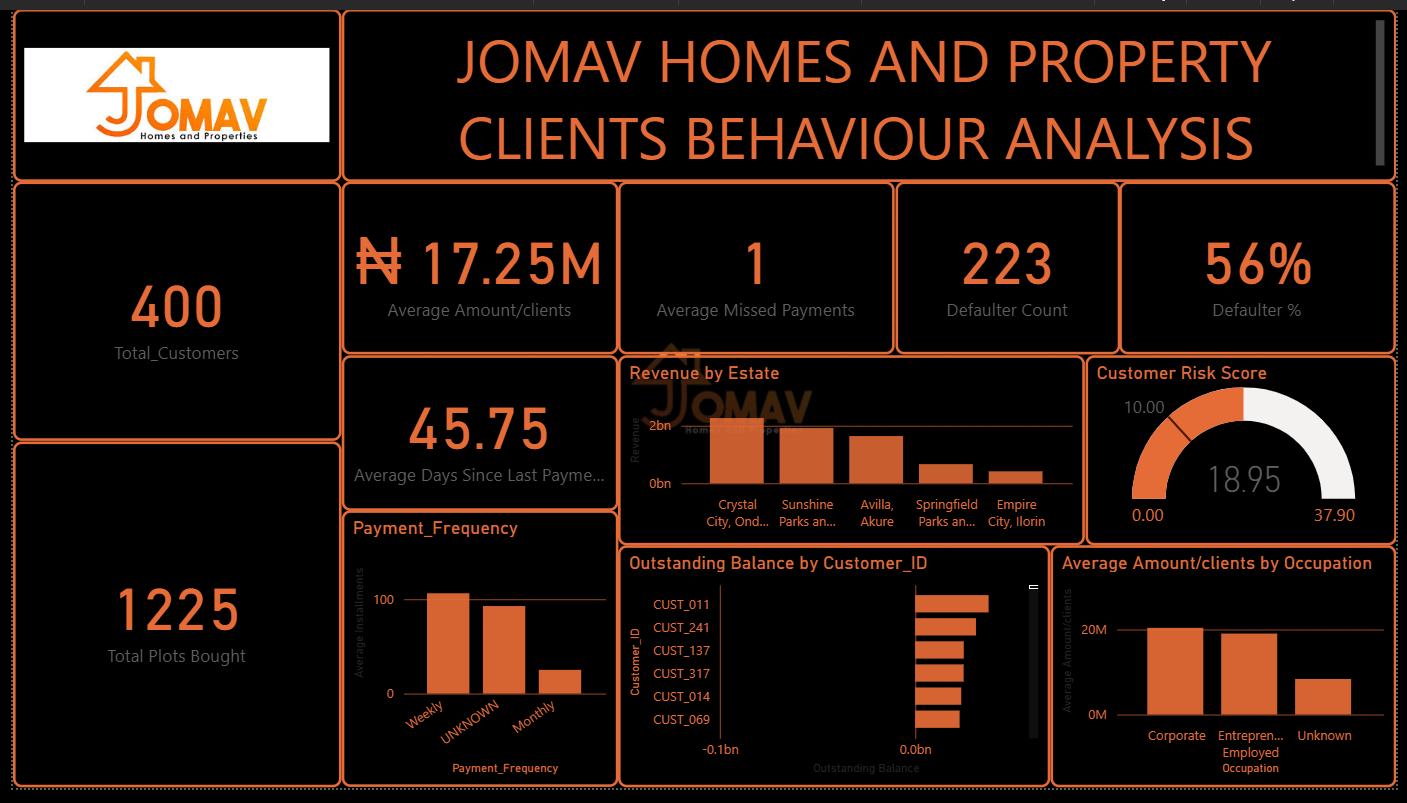

This screenshot's page, from the dashboard's own definition file:
{"tool":"powerbi","page":{"name":"Behaviour Analysis","canvas":[1280,720],"ordinal":0},"visuals":[{"type":"card","fields":{"Values":["Sheet1.Total_Customers"]},"box":[0,160,304,240],"z":0},{"type":"card","fields":{"Values":["Sheet1.Defaulter Count"]},"box":[816,160,208,160],"z":1},{"type":"card","fields":{"Values":["Sheet1.Defaulter %"]},"box":[1024,160,256,160],"z":2},{"type":"card","fields":{"Values":["Sheet1.Average Amount/clients"]},"box":[304,160,256,160],"z":3},{"type":"card","fields":{"Values":["Sheet1.Average Missed Payments"]},"box":[560,160,256,160],"z":4},{"type":"card","fields":{"Values":["Sheet1.Average Days Since Last Payment"]},"box":[304,320,256,144],"z":5},{"type":"gauge","fields":{"Y":["Sheet1.Customer Risk Score"]},"box":[992,320,288,176],"z":6},{"type":"clusteredBarChart","fields":{"Category":["Sheet1.Customer_ID"],"Y":["Sheet1.Outstanding Balance"]},"box":[560,496,400,224],"z":9},{"type":"clusteredColumnChart","title":" Payment_Frequency","fields":{"Y":["Sheet1.Average Installments"],"Category":["Sheet1.Payment_Frequency"]},"box":[304,464,256,256],"z":12},{"type":"clusteredColumnChart","fields":{"Category":["Sheet1.Occupation"],"Y":["Sheet1.Average Amount/clients"]},"box":[960,496,320,224],"z":13},{"type":"image","box":[0,0,304,160],"z":14},{"type":"textbox","box":[304,0,976,160],"z":15},{"type":"card","fields":{"Values":["Sheet1.Total Plots Bought"]},"box":[0,400,304,320],"z":16},{"type":"clusteredColumnChart","fields":{"Y":["Sheet1.Revenue"],"Category":["Sheet1.Estate"]},"box":[560,320,432,176],"z":17}]}

Visuals, with their boxes in screenshot pixels (x1, y1, x2, y2), scaled from the page's 1280x720 canvas onto the 1407x803 screenshot:
card - Sheet1.Total_Customers: [0, 178, 334, 446]
card - Sheet1.Defaulter Count: [897, 178, 1126, 357]
card - Sheet1.Defaulter %: [1126, 178, 1406, 357]
card - Sheet1.Average Amount/clients: [334, 178, 616, 357]
card - Sheet1.Average Missed Payments: [616, 178, 897, 357]
card - Sheet1.Average Days Since Last Payment: [334, 357, 616, 517]
gauge - Sheet1.Customer Risk Score: [1090, 357, 1406, 553]
clusteredBarChart - Sheet1.Customer_ID x Sheet1.Outstanding Balance: [616, 553, 1055, 802]
" Payment_Frequency" clusteredColumnChart: [334, 517, 616, 802]
clusteredColumnChart - Sheet1.Occupation x Sheet1.Average Amount/clients: [1055, 553, 1406, 802]
image: [0, 0, 334, 178]
textbox: [334, 0, 1406, 178]
card - Sheet1.Total Plots Bought: [0, 446, 334, 802]
clusteredColumnChart - Sheet1.Revenue x Sheet1.Estate: [616, 357, 1090, 553]
